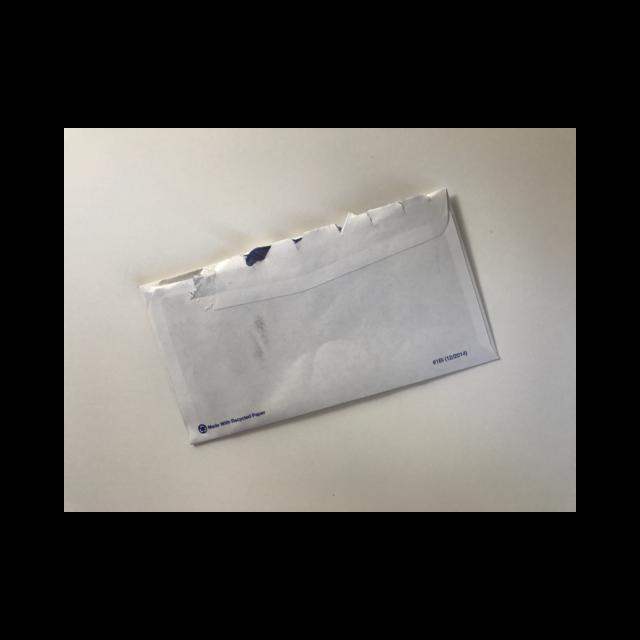paper: (137, 186, 498, 446)
